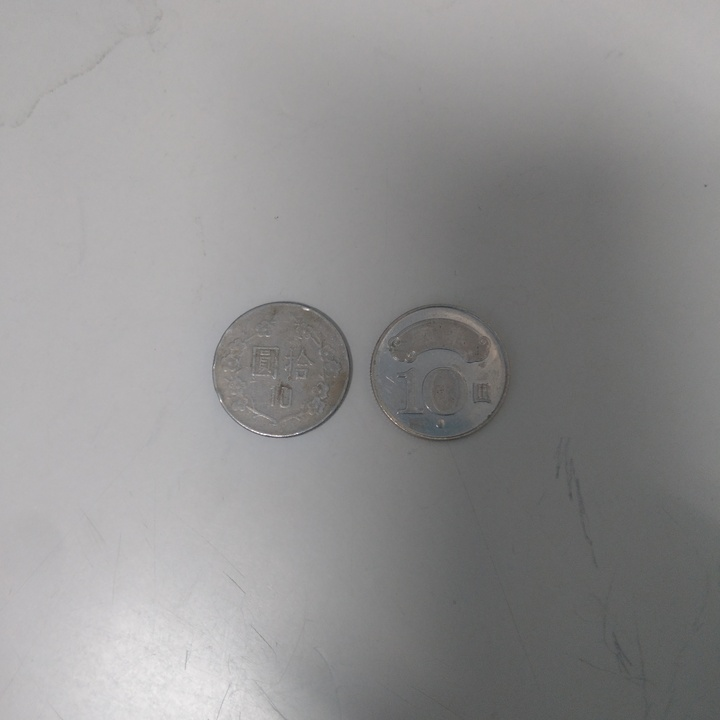10 dollar: (212, 299, 353, 439), (371, 305, 510, 444)
